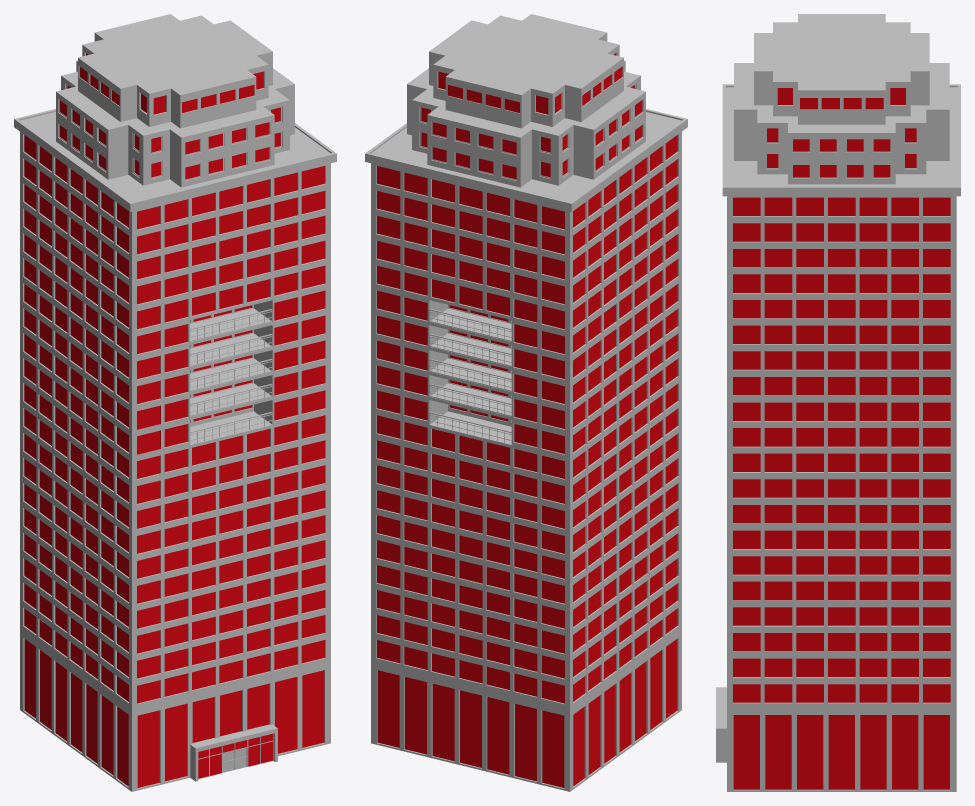
Rendered from SM_skyscraper_06.gltf.
The picture shows the model from 3 angles, left to right: view 1: azimuth 30°, elevation 25°; view 2: azimuth 150°, elevation 25°; view 3: azimuth 270°, elevation 25°; orthographic projection. The views are drawn at different scales.
Parts seen in each view (by area): view 1: skyscraper_06; view 2: skyscraper_06; view 3: skyscraper_06.
Part boxes in pixels (x1=…): skyscraper_06: x1=14, y1=14, x2=336, y2=791; skyscraper_06: x1=365, y1=14, x2=687, y2=791; skyscraper_06: x1=716, y1=14, x2=960, y2=791.
Size of the model in its own units: 26 by 80.81 by 26.
